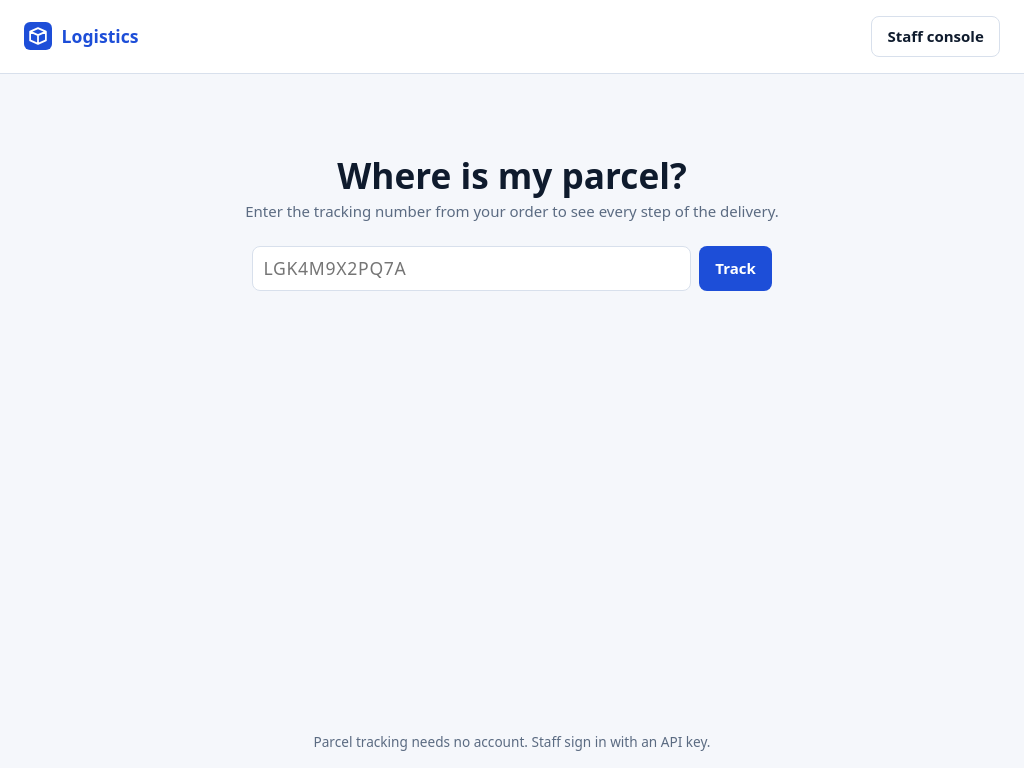
Test: home and tracking › opens the timeline for a valid number, newest event first, without sending a key
Type " lgk4m9x2pq7a " into the field named "Tracking number" at (472, 268), box [252,246,691,291]
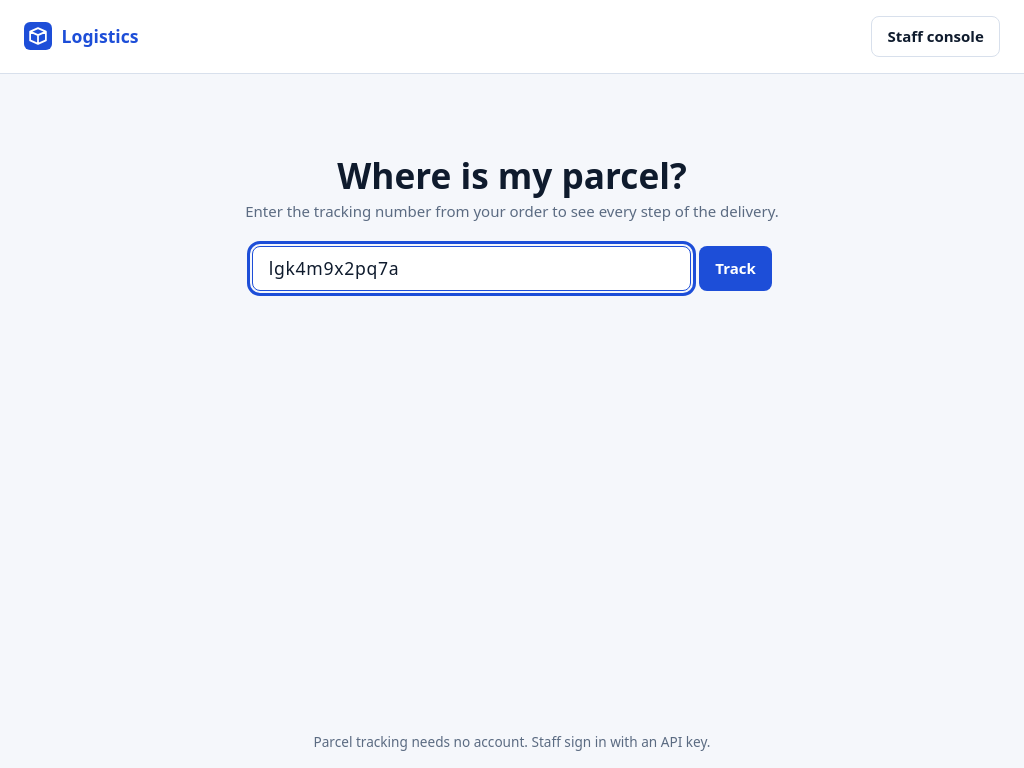
Click the button "Track" at (736, 268), box [699,246,772,291]
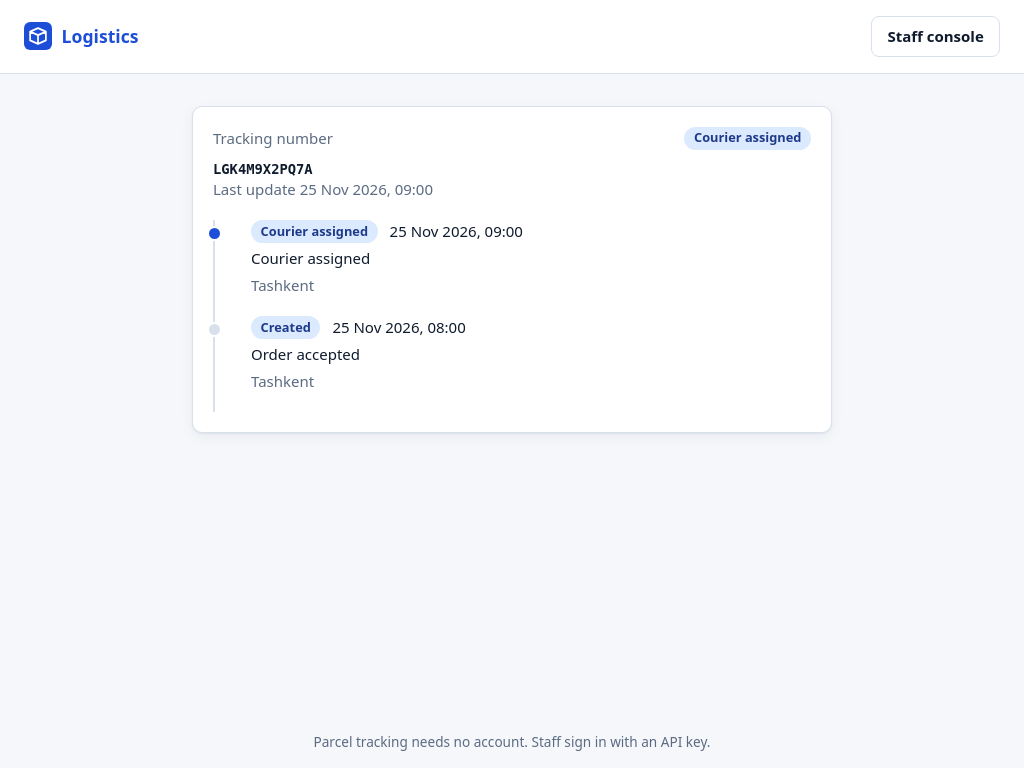
Now the number of list items is 2, box [251,220,523,294]; [251,316,466,390]
Now the list item that starts with "Courier assigned" is shown, box [261,222,368,240]
Now the list item "Created 25 Nov 2026, 08:00 Order accepted Tashkent" is shown, box [251,316,466,390]
